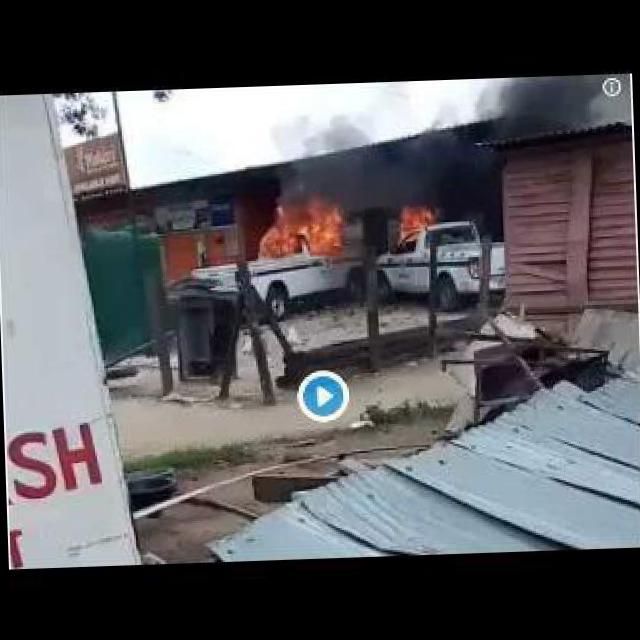Fire: (253, 181, 354, 262), (389, 194, 442, 248)
Smoke: (270, 73, 602, 203)
